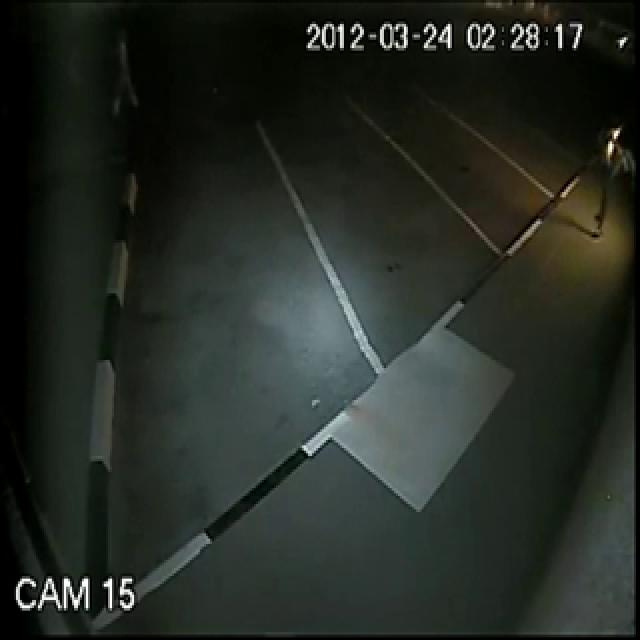vandalism: (445, 81, 640, 292)
